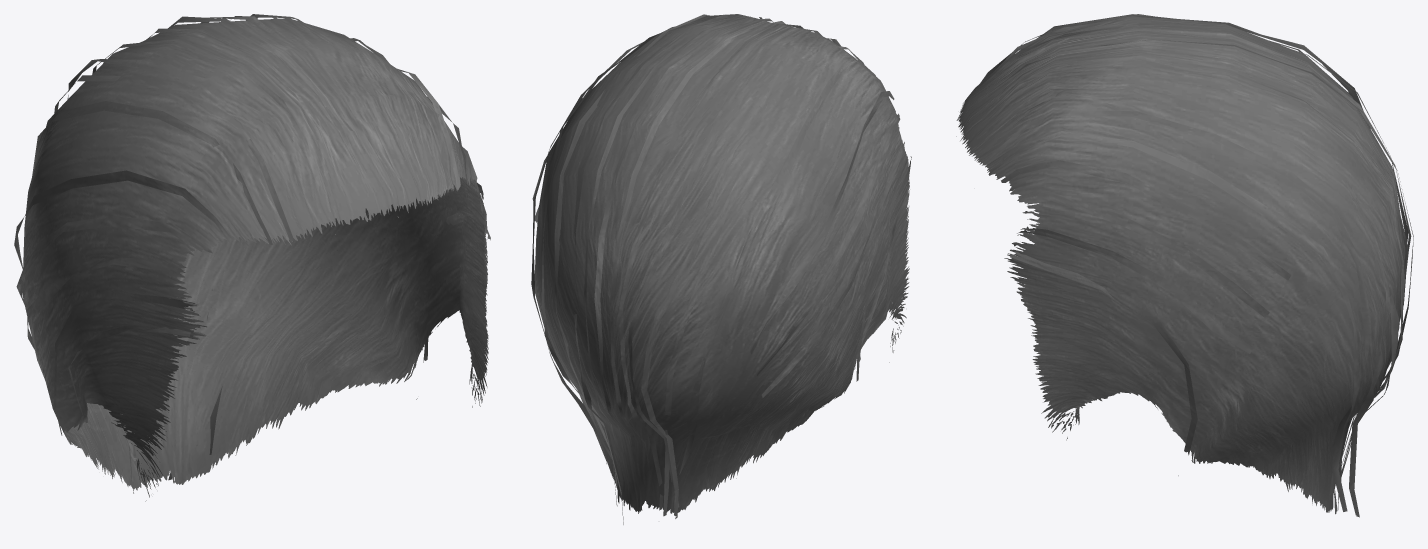
Rendered from short04.glb.
3 renders of one model, left to right at view 1: azimuth 30°, elevation 25°; view 2: azimuth 150°, elevation 25°; view 3: azimuth 270°, elevation 25°, orthographic. The views are drawn at different scales.
Visible parts, largest first — view 1: editor_short04; view 2: editor_short04; view 3: editor_short04.
Boxes of the visible parts, x1,y1,x2,y2 form: editor_short04: [14, 14, 490, 501]; editor_short04: [531, 14, 911, 524]; editor_short04: [956, 14, 1413, 517].
Size of the model in its own units: 0.1486 by 0.2005 by 0.1731.
Materials: 1 (1 with a texture image).
